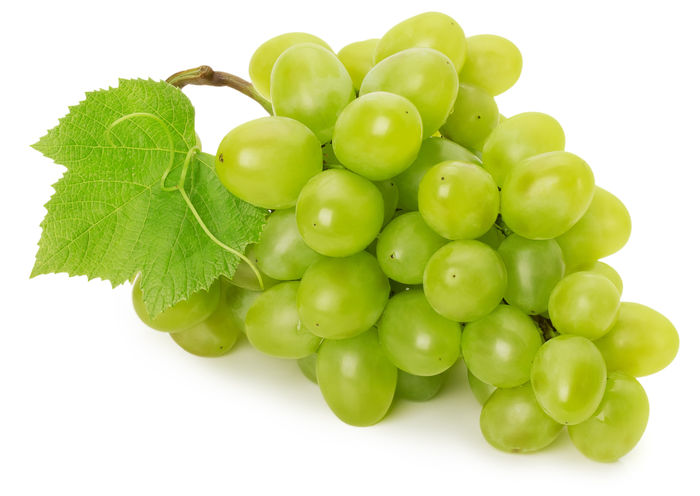Green grapes: (135, 20, 673, 463)
